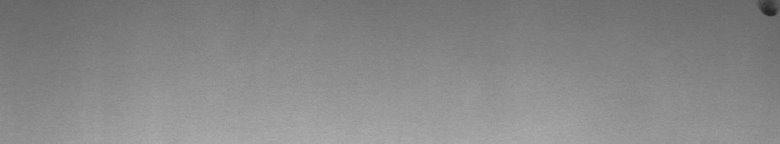fi: (753, 4, 776, 24)
